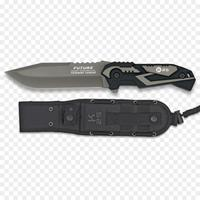knife: (3, 52, 191, 95)
